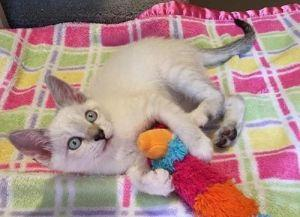siamese: (8, 70, 123, 175)
